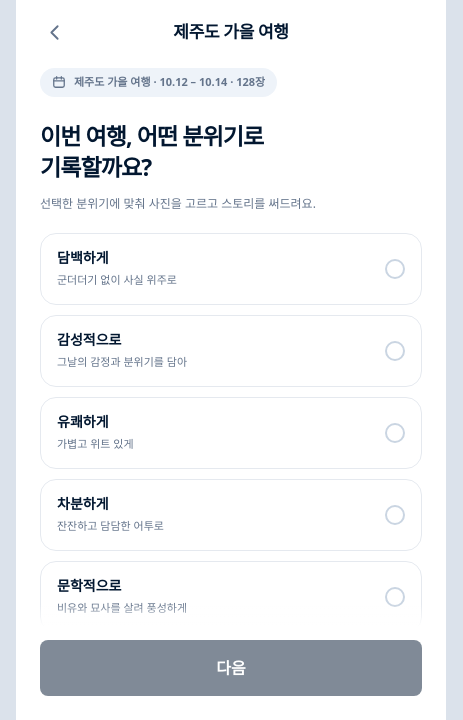
Test: StoryCreatePage › 기본 선택 없이 시작하고 분위기를 하나만 선택한다
The image size is (463, 720).
Expected: the button "다음" is disabled, [40,640,422,696]
What coordinates should you click on to do the following:
click the radio button labelled "감성적으로 그날의 감정과 분위기를 담아"
I would click on:
 (395, 351)
Its box is [385,341,405,361].
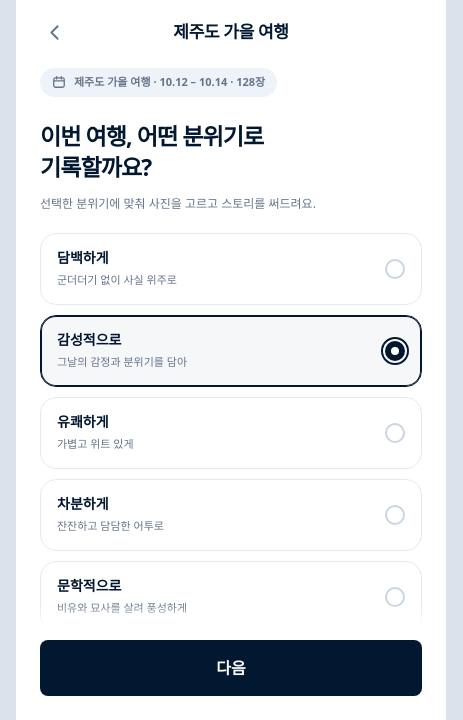
What coordinates should you click on to do the following:
click the radio button labelled "차분하게 잔잔하고 담담한 어투로"
I would click on:
 (395, 515)
Its box is [385,505,405,525].
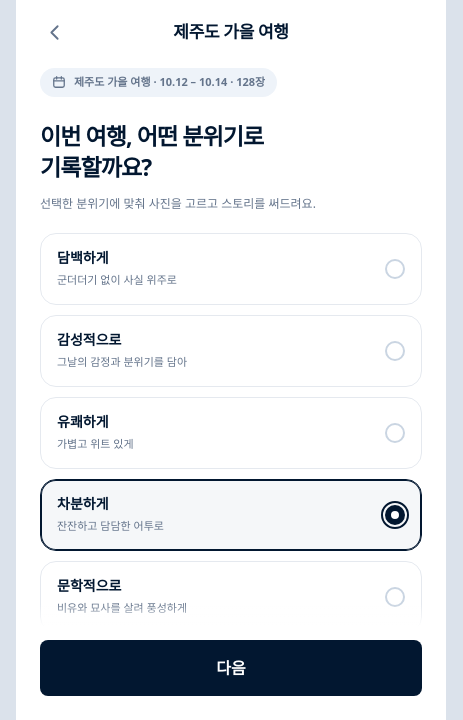
Expected: the radio button labelled "감성적으로 그날의 감정과 분위기를 담아" is not checked, [385,341,405,361]
What coordinates should you click on to do the following:
click the button "다음"
I would click on:
 (231, 668)
Its box is [40,640,422,696].
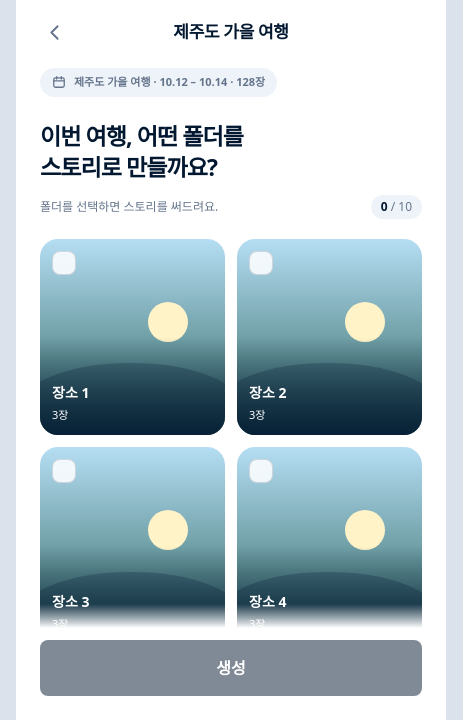
Expected: the button "생성" is disabled, [40,640,422,696]
